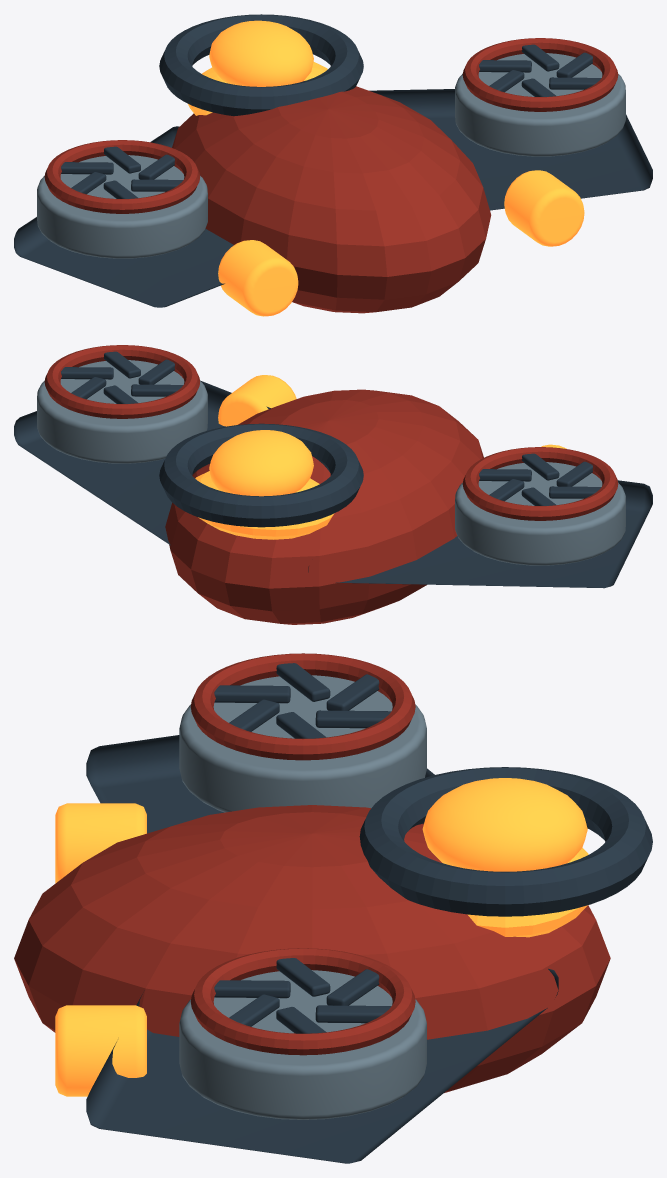
The model's file is Drone.fbx.
The picture shows the model from 3 angles, top to bottom: view 1: azimuth 30°, elevation 25°; view 2: azimuth 150°, elevation 25°; view 3: azimuth 270°, elevation 25°; orthographic projection. The views are drawn at different scales.
Visible parts, largest first — view 1: Armored lens.002, Armored sensor surround.002, Ducted impeller.005, Ducted impeller.004, Blade.005, Blade.004, Optical eye.002, Duct intake lip.005, Duct intake lip.004, Thruster.005, Thruster.004, Impeller blade.026 (+8 smaller); view 2: Armored lens.002, Armored sensor surround.002, Ducted impeller.004, Ducted impeller.005, Blade.004, Blade.005, Optical eye.002, Duct intake lip.004, Duct intake lip.005, Thruster.005, Target sensor.002, Impeller blade.024 (+9 smaller); view 3: Armored lens.002, Armored sensor surround.002, Blade.005, Ducted impeller.005, Ducted impeller.004, Optical eye.002, Duct intake lip.004, Duct intake lip.005, Blade.004, Thruster.005, Thruster.004, Target sensor.002 (+12 smaller).
Boxes of the visible parts, <box> form: Armored lens.002: <box>172,86,491,313</box>; Armored sensor surround.002: <box>159,14,363,116</box>; Ducted impeller.005: <box>455,53,625,156</box>; Ducted impeller.004: <box>37,155,207,258</box>; Blade.005: <box>369,89,652,210</box>; Blade.004: <box>14,126,233,307</box>; Optical eye.002: <box>209,20,313,86</box>; Duct intake lip.005: <box>462,38,618,111</box>; Duct intake lip.004: <box>44,140,199,213</box>; Thruster.005: <box>504,170,584,246</box>; Thruster.004: <box>218,240,298,316</box>; Impeller blade.026: <box>61,162,113,174</box>; Armored lens.002: <box>165,389,483,624</box>; Armored sensor surround.002: <box>159,423,363,527</box>; Ducted impeller.004: <box>455,462,625,565</box>; Ducted impeller.005: <box>37,360,207,463</box>; Blade.004: <box>308,480,652,588</box>; Blade.005: <box>14,380,270,545</box>; Optical eye.002: <box>209,430,313,496</box>; Duct intake lip.004: <box>462,447,618,520</box>; Duct intake lip.005: <box>44,345,199,418</box>; Thruster.005: <box>218,375,296,426</box>; Target sensor.002: <box>195,471,334,539</box>; Impeller blade.024: <box>479,469,531,481</box>; Armored lens.002: <box>14,805,610,1092</box>; Armored sensor surround.002: <box>359,767,652,916</box>; Blade.005: <box>86,968,558,1163</box>; Ducted impeller.005: <box>179,970,426,1119</box>; Ducted impeller.004: <box>179,675,426,812</box>; Optical eye.002: <box>422,778,587,871</box>; Duct intake lip.004: <box>190,653,415,760</box>; Duct intake lip.005: <box>190,948,415,1055</box>; Blade.004: <box>86,735,434,833</box>; Thruster.005: <box>55,1005,146,1096</box>; Thruster.004: <box>55,803,146,883</box>; Target sensor.002: <box>467,848,588,937</box>.
Size of the model in its own units: 218 by 71 by 139.
